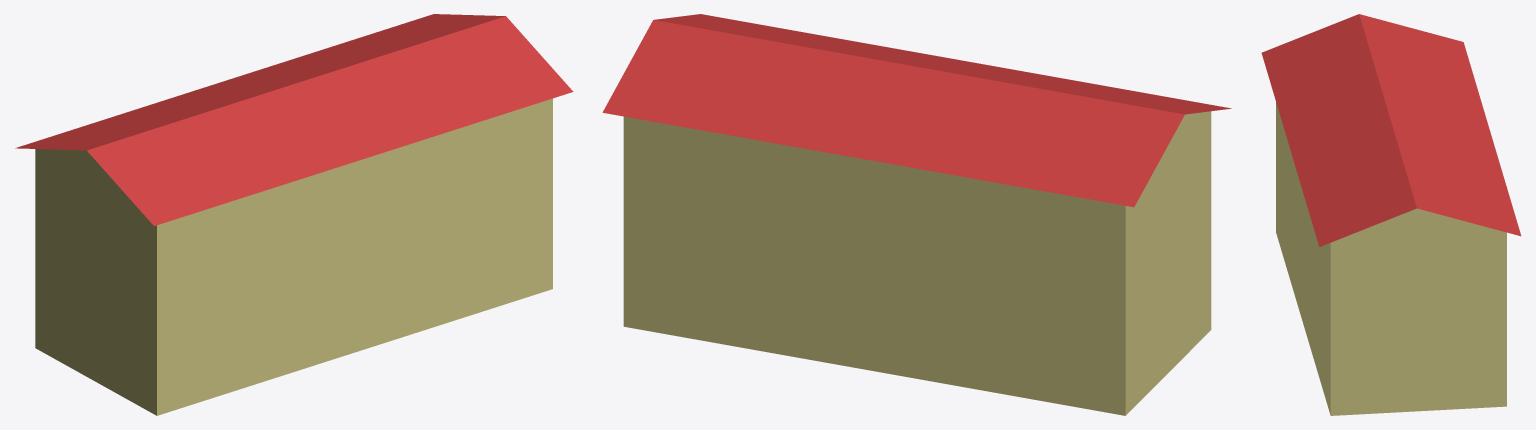
3 views of the same model, side by side, from view 1: azimuth 30°, elevation 25°; view 2: azimuth 150°, elevation 25°; view 3: azimuth 270°, elevation 25° (orthographic). The views are drawn at different scales.
Bounding box in the file's own units: 27.96 × 14.97 × 13.25.
